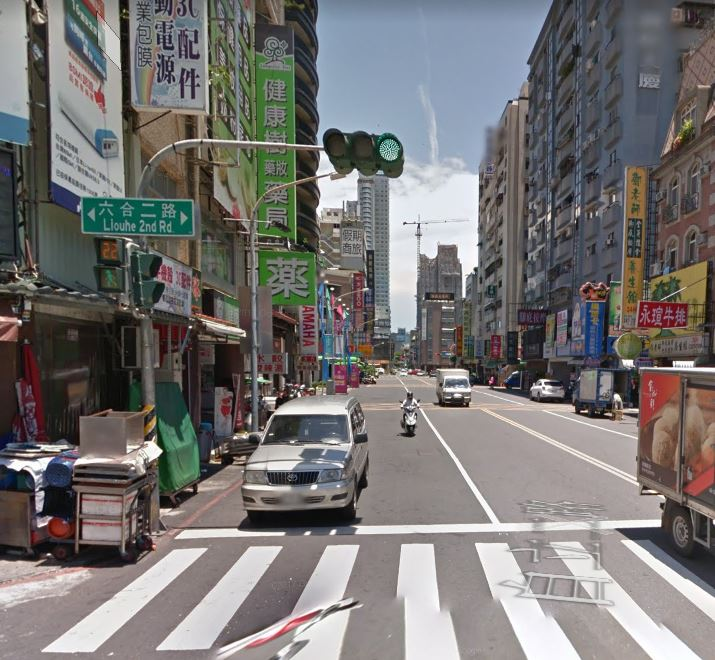Traffic_light_green: (322, 126, 408, 180)
car: (238, 391, 371, 528)
motorcycle: (400, 397, 420, 438)
